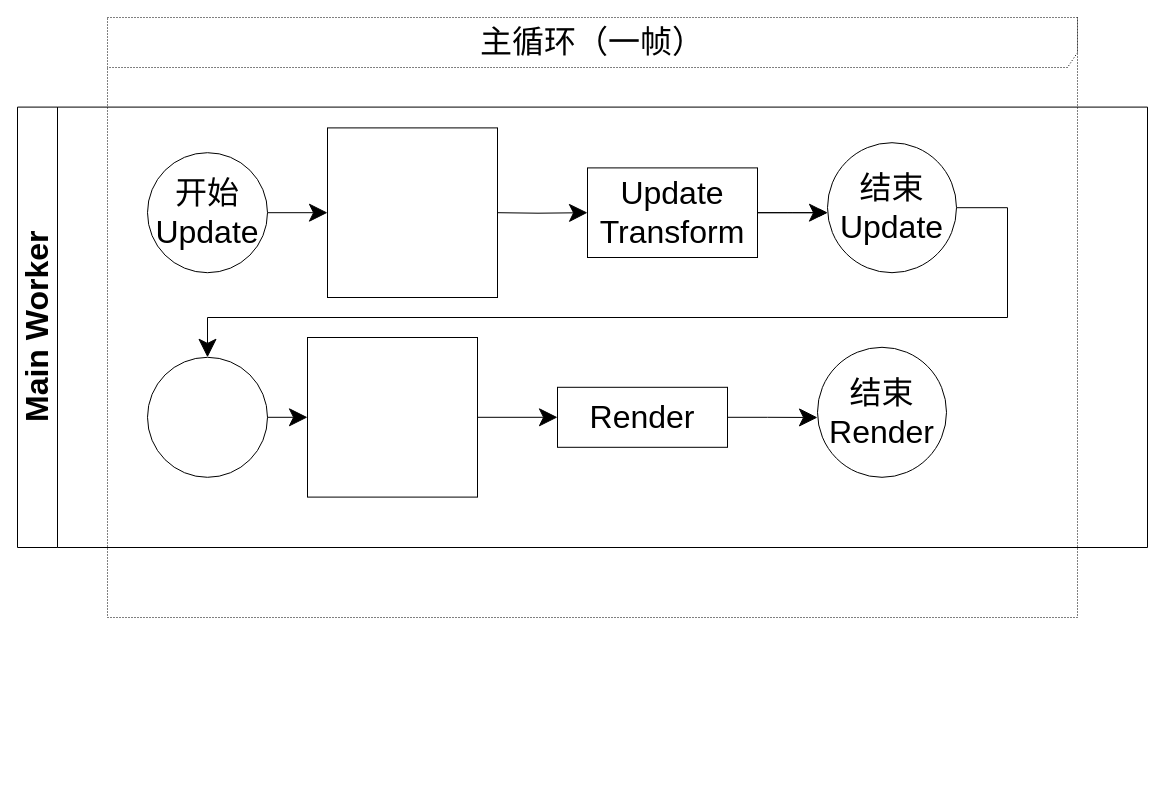
This 1165x788 diagram has some shape labels left out. The shapes that lost their labels are listed below. From the top down, each one's box as (x1, y1, x2, y2) in pixels, then its label:
(326, 127, 498, 298): Compute Physics And Update
(146, 356, 268, 477): 开始Render
(306, 336, 478, 497): Send Uniform Shader Data
